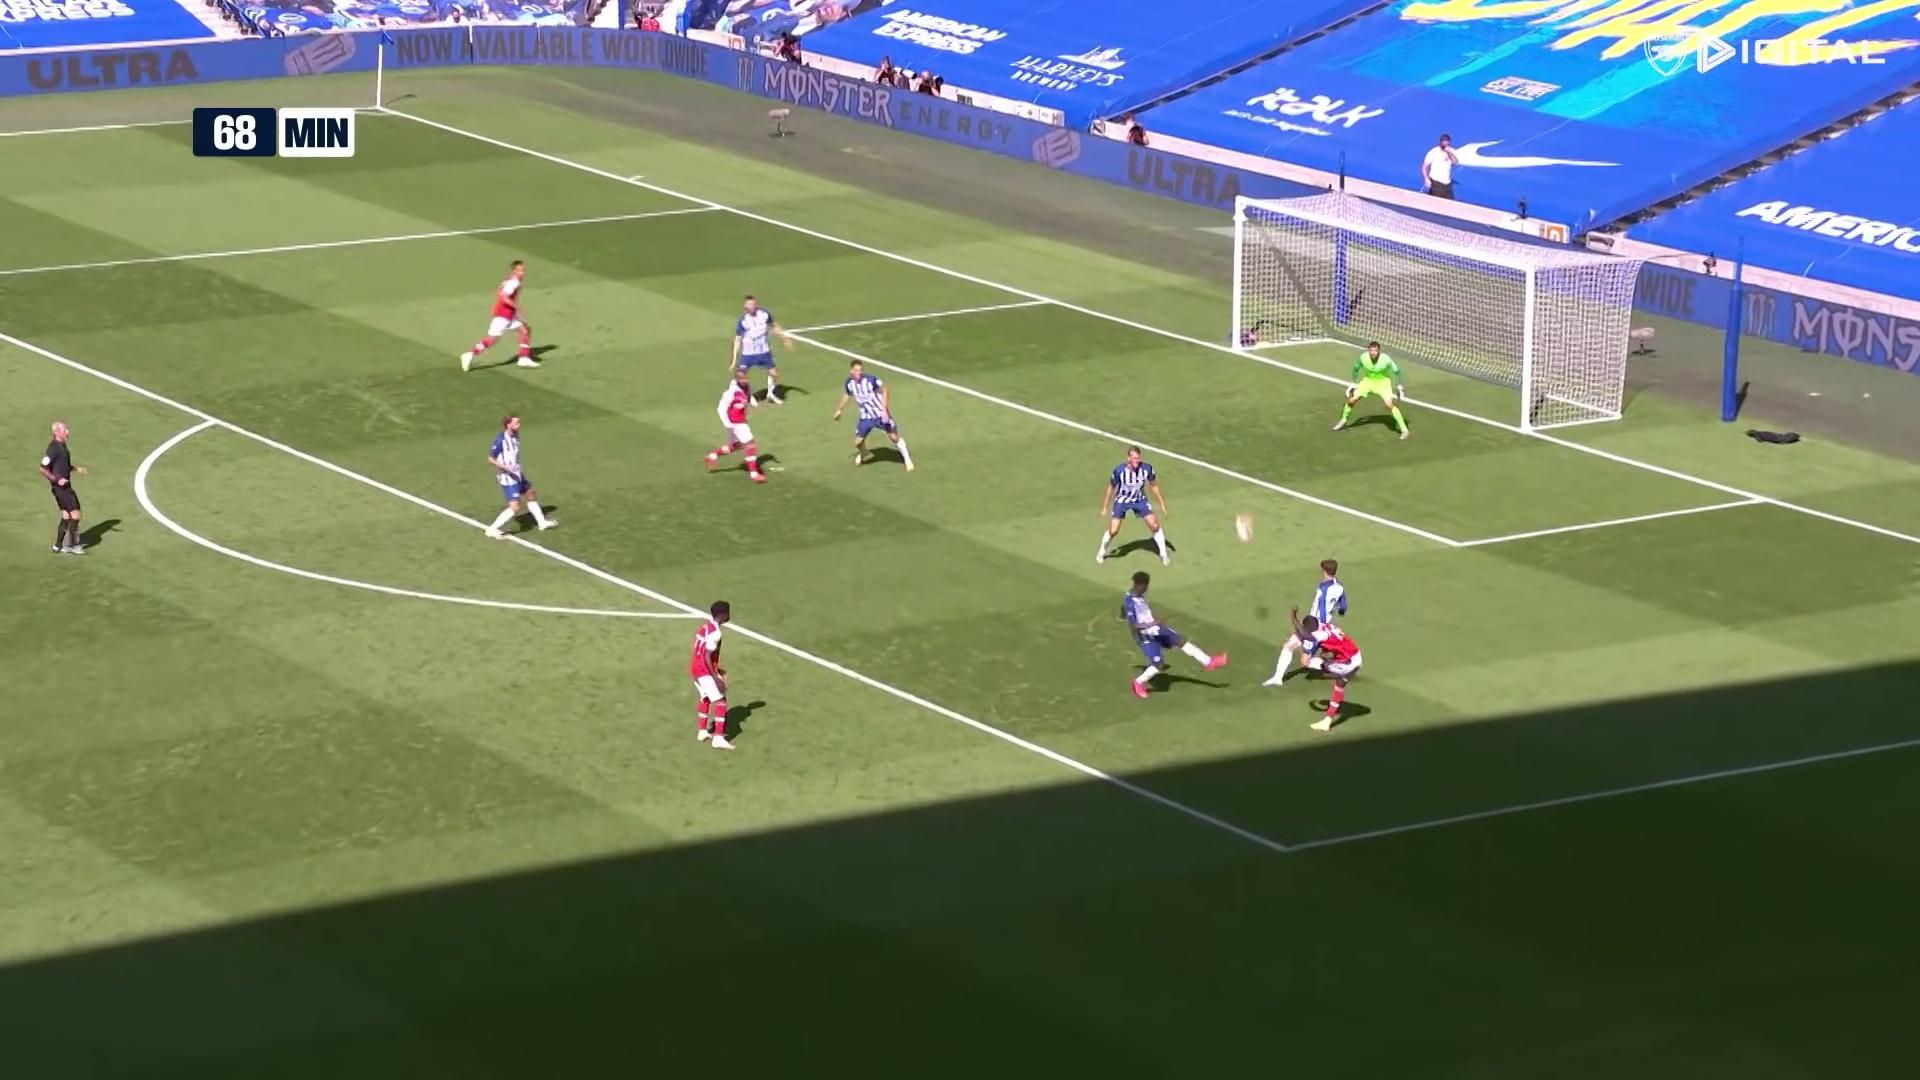ball: (1228, 513, 1260, 549)
goalkeeper: (1330, 342, 1415, 440)
player: (1116, 570, 1229, 702), (1261, 555, 1351, 693), (479, 410, 562, 546), (1095, 443, 1181, 567), (690, 597, 755, 756), (1287, 600, 1362, 737), (838, 361, 923, 477), (453, 254, 531, 373), (728, 294, 797, 410), (707, 372, 770, 483)
referee: (36, 417, 94, 563)
